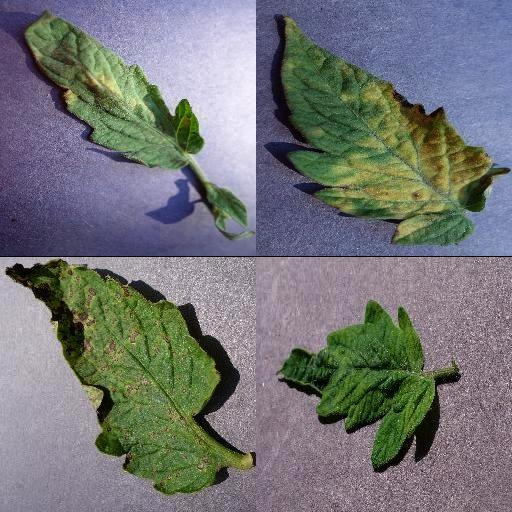Leaf Mold: (279, 13, 511, 247), (25, 10, 206, 170)
Mosaic Virus: (276, 297, 436, 471)
Septoria: (5, 259, 223, 493)
